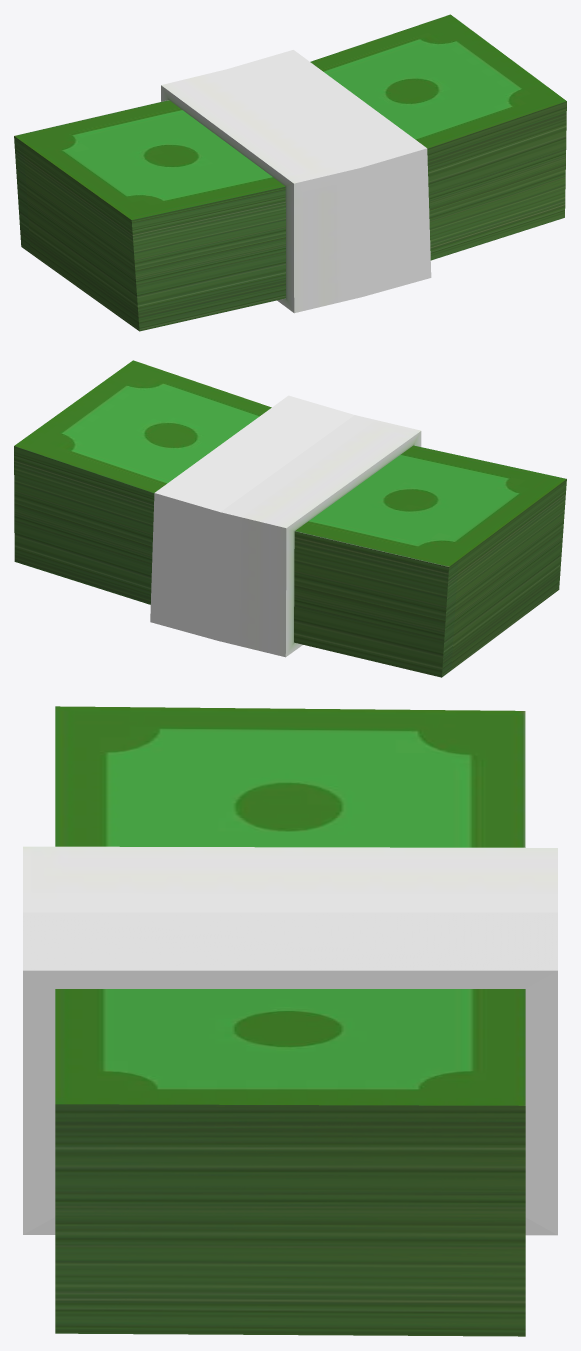
The model's file is Money.fbx.
3 views of the same model, one above another, from view 1: azimuth 30°, elevation 25°; view 2: azimuth 150°, elevation 25°; view 3: azimuth 270°, elevation 25° (orthographic). The views are drawn at different scales.
Parts seen in each view (by area): view 1: Money; view 2: Money; view 3: Money.
Boxes of the visible parts, x1,y1,x2,y2 form: Money: [14, 14, 566, 331]; Money: [14, 360, 566, 677]; Money: [23, 706, 557, 1336].
Size of the model in its own units: 305 by 92.16 by 162.
